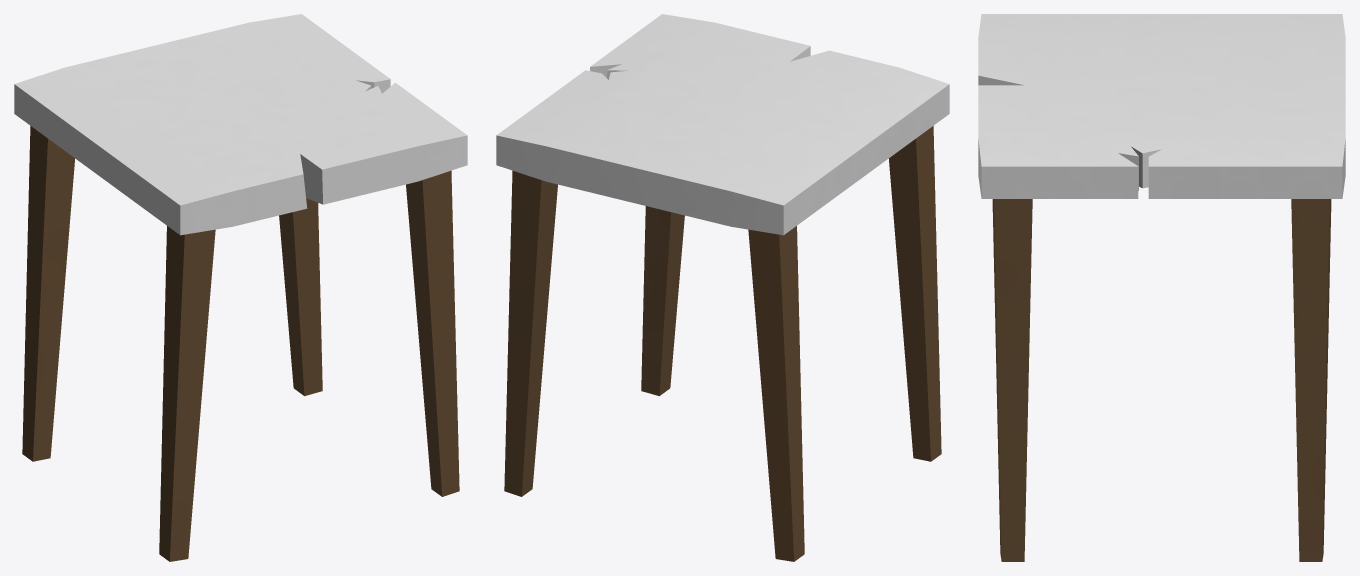
File: Chair_01_04_Damaged.fbx
The picture shows the model from 3 angles, left to right: view 1: azimuth 30°, elevation 25°; view 2: azimuth 150°, elevation 25°; view 3: azimuth 270°, elevation 25°; orthographic projection. The views are drawn at different scales.
Visible parts, largest first — view 1: Chair_01_04_Damaged; view 2: Chair_01_04_Damaged; view 3: Chair_01_04_Damaged.
Boxes of the visible parts, bbox=[...] form: Chair_01_04_Damaged: bbox=[14, 14, 467, 561]; Chair_01_04_Damaged: bbox=[496, 14, 949, 561]; Chair_01_04_Damaged: bbox=[978, 14, 1345, 561].
Bounding box in the file's own units: 0.4836 × 0.5845 × 0.4882.
